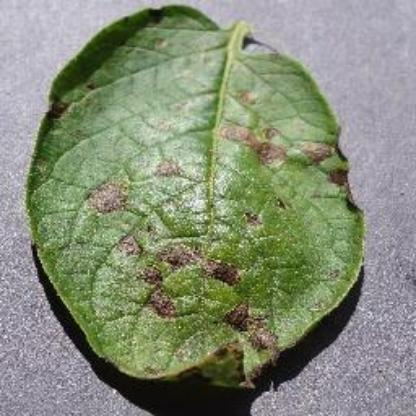Early-Blight: (24, 3, 396, 401)
